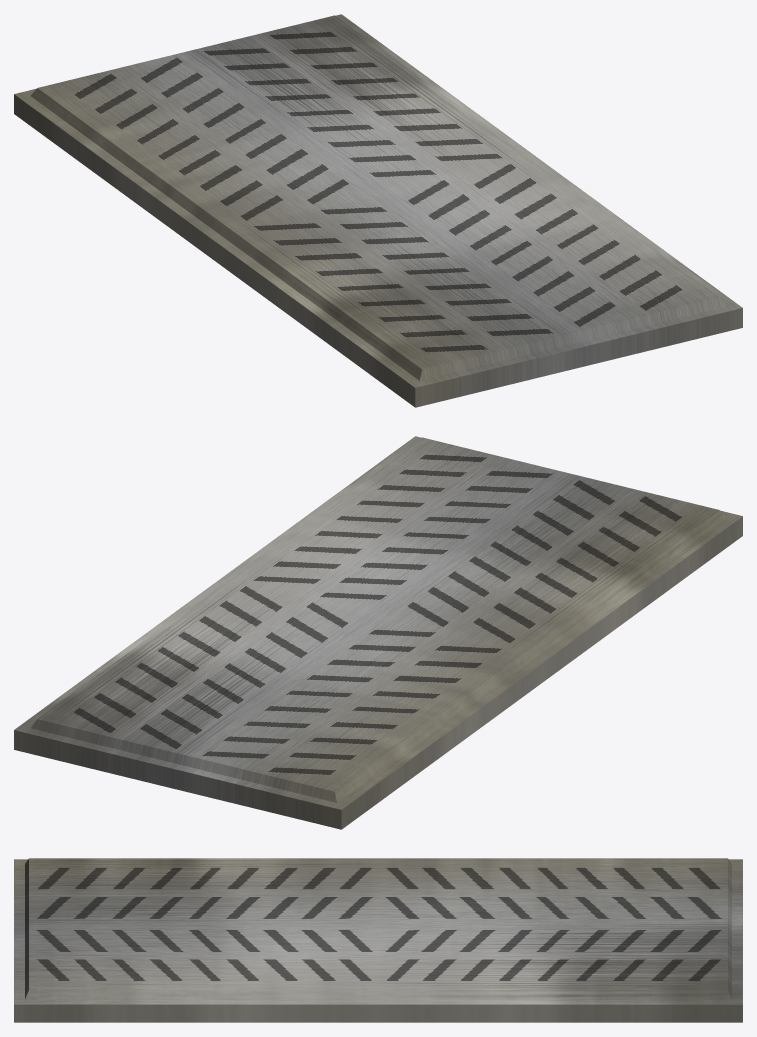
Rendered from floor2l.fbx.
3 renders of one model, top to bottom at view 1: azimuth 30°, elevation 25°; view 2: azimuth 150°, elevation 25°; view 3: azimuth 270°, elevation 25°, orthographic. The views are drawn at different scales.
Visible parts, largest first — view 1: floor2l; view 2: floor2l; view 3: floor2l.
Part boxes in pixels (<box>): floor2l: <box>14,14,742,407</box>; floor2l: <box>14,436,742,829</box>; floor2l: <box>14,858,742,1022</box>.
Bounding box in the file's own units: 84.42 × 6.98 × 179.
